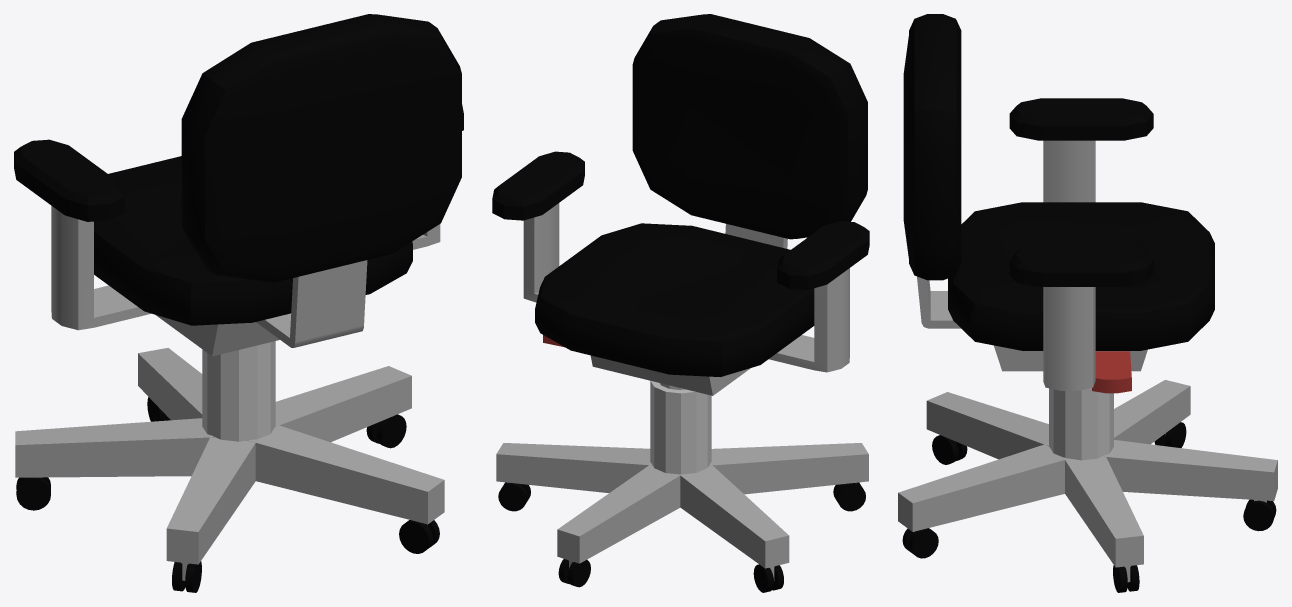
The model's file is OfficeChair.fbx.
The picture shows the model from 3 angles, left to right: view 1: azimuth 30°, elevation 25°; view 2: azimuth 150°, elevation 25°; view 3: azimuth 270°, elevation 25°; orthographic projection. The views are drawn at different scales.
Visible parts, largest first — view 1: Back_Cushion, Bottom_Cushion, Leg_2, Leg_5, Leg_1, Shaft1, Leg_3, Arm_Shaft_2, Arm_Cushion_2, Back_Panel, Leg_4, Mechanism (+3 smaller); view 2: Back_Cushion, Bottom_Cushion, Leg_1, Leg_4, Leg_3, Leg_5, Shaft1, Arm_Cushion_1, Arm_Cushion_2, Arm_Shaft_2, Arm_Shaft_1, Mechanism (+4 smaller); view 3: Bottom_Cushion, Back_Cushion, Leg_2, Leg_4, Arm_Cushion_2, Arm_Cushion_1, Arm_Shaft_1, Leg_3, Leg_1, Shaft1, Leg_5, Arm_Shaft_2 (+6 smaller).
Part boxes in pixels (<box>): Back_Cushion: <box>181,14,461,282</box>; Bottom_Cushion: <box>94,156,412,325</box>; Leg_2: <box>247,424,444,524</box>; Leg_5: <box>15,418,215,477</box>; Leg_1: <box>166,435,257,564</box>; Shaft1: <box>202,341,275,441</box>; Leg_3: <box>275,366,411,442</box>; Arm_Shaft_2: <box>51,206,151,330</box>; Arm_Cushion_2: <box>14,139,124,221</box>; Back_Panel: <box>256,260,367,347</box>; Leg_4: <box>138,348,202,420</box>; Mechanism: <box>156,315,279,356</box>; Back_Cushion: <box>632,14,867,239</box>; Bottom_Cushion: <box>535,223,814,376</box>; Leg_1: <box>709,443,868,494</box>; Leg_4: <box>557,464,681,563</box>; Leg_3: <box>496,443,652,492</box>; Leg_5: <box>679,463,789,568</box>; Shaft1: <box>650,381,711,474</box>; Arm_Cushion_1: <box>492,151,584,220</box>; Arm_Cushion_2: <box>777,221,869,289</box>; Arm_Shaft_2: <box>769,268,849,372</box>; Arm_Shaft_1: <box>523,203,559,302</box>; Mechanism: <box>590,355,750,395</box>; Bottom_Cushion: <box>948,202,1214,350</box>; Back_Cushion: <box>903,14,961,280</box>; Leg_2: <box>898,443,1069,531</box>; Leg_4: <box>1102,440,1277,500</box>; Arm_Cushion_2: <box>1009,98,1153,140</box>; Arm_Cushion_1: <box>1009,245,1153,286</box>; Arm_Shaft_1: <box>1043,287,1095,390</box>; Leg_3: <box>1063,455,1143,567</box>; Leg_1: <box>926,392,1049,459</box>; Shaft1: <box>1049,388,1113,460</box>; Leg_5: <box>1114,380,1190,444</box>; Arm_Shaft_2: <box>1043,140,1095,202</box>.
Size of the model in its own units: 1.27 by 1.63 by 1.19.
